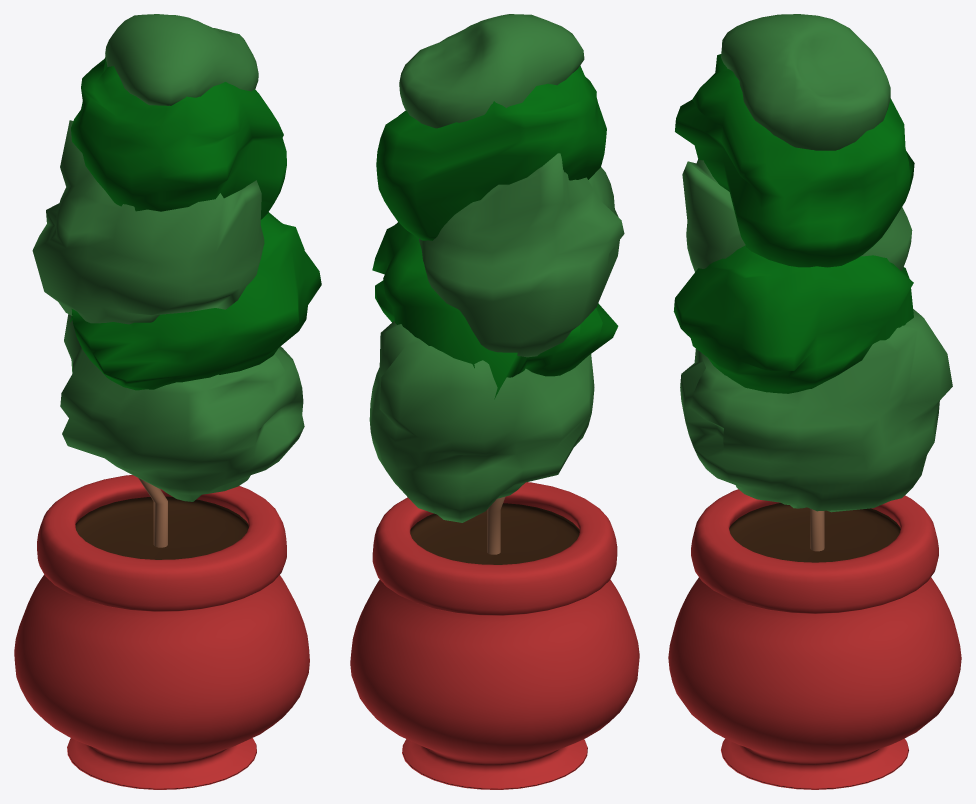
Rendered from FloorPlant.fbx.
3 renders of one model, left to right at view 1: azimuth 30°, elevation 25°; view 2: azimuth 150°, elevation 25°; view 3: azimuth 270°, elevation 25°, orthographic. The views are drawn at different scales.
Visible parts, largest first — view 1: pSphere2, Pot, Stick1; view 2: pSphere2, Pot, Stick1; view 3: pSphere2, Pot, Stick1.
Boxes of the visible parts, <box> form: pSphere2: <box>32,14,321,501</box>; Pot: <box>14,475,309,789</box>; Stick1: <box>138,478,167,547</box>; pSphere2: <box>369,14,624,522</box>; Pot: <box>350,482,639,789</box>; Stick1: <box>487,496,505,554</box>; pSphere2: <box>673,14,952,512</box>; Pot: <box>668,489,961,789</box>; Stick1: <box>810,509,824,551</box>.
Size of the model in its own units: 23.32 by 62.2 by 22.67.
